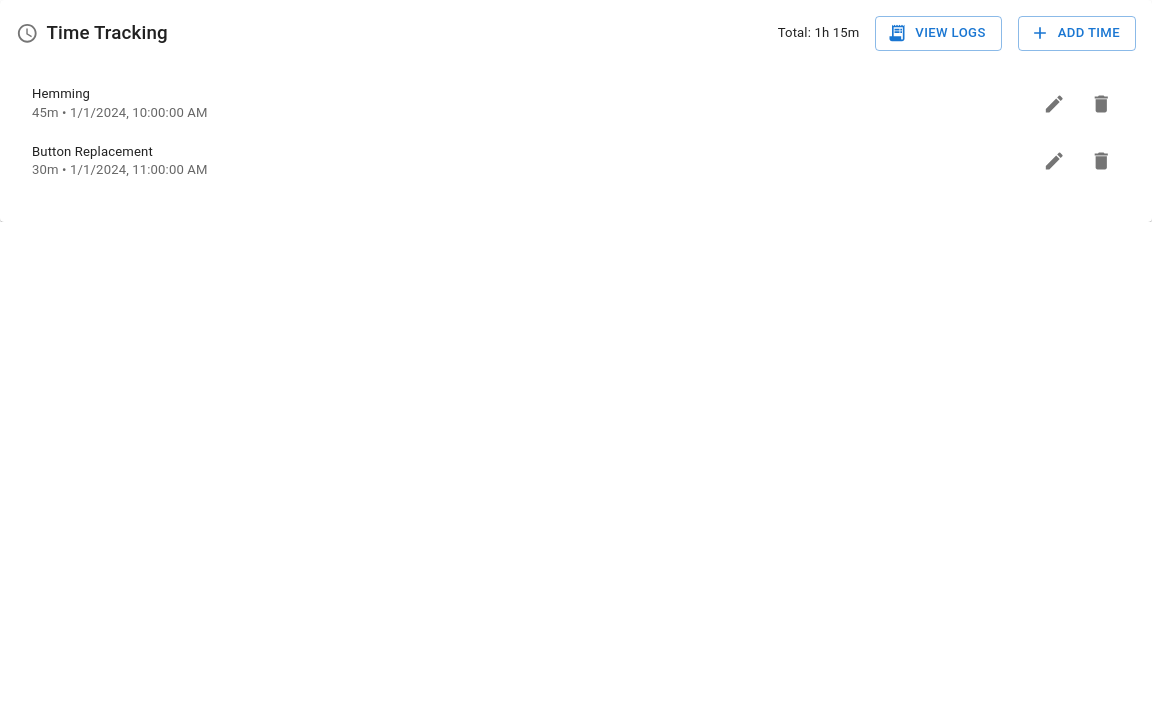
Test case: GarmentTimeTracker › Validation › should show time validation error when both hours and minutes are 0
The width and height of the screenshot is (1152, 720).
Expected: the heading "Time Tracking" is shown, [46, 18, 168, 48]
Click Add Time button
Click the button "Add Time": (1077, 34) [1018, 16, 1136, 51]
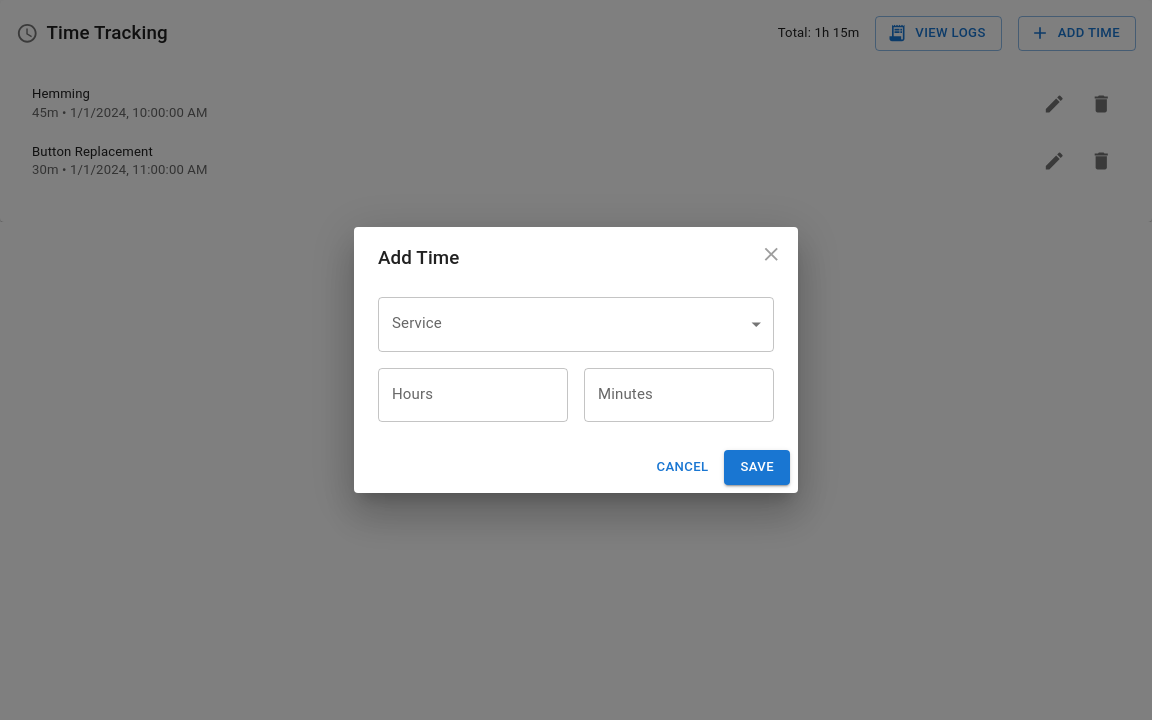
Select service and enter 0 for both fields
Select "Hemming" in the dropdown labelled "Service": (576, 324) [378, 297, 774, 352]
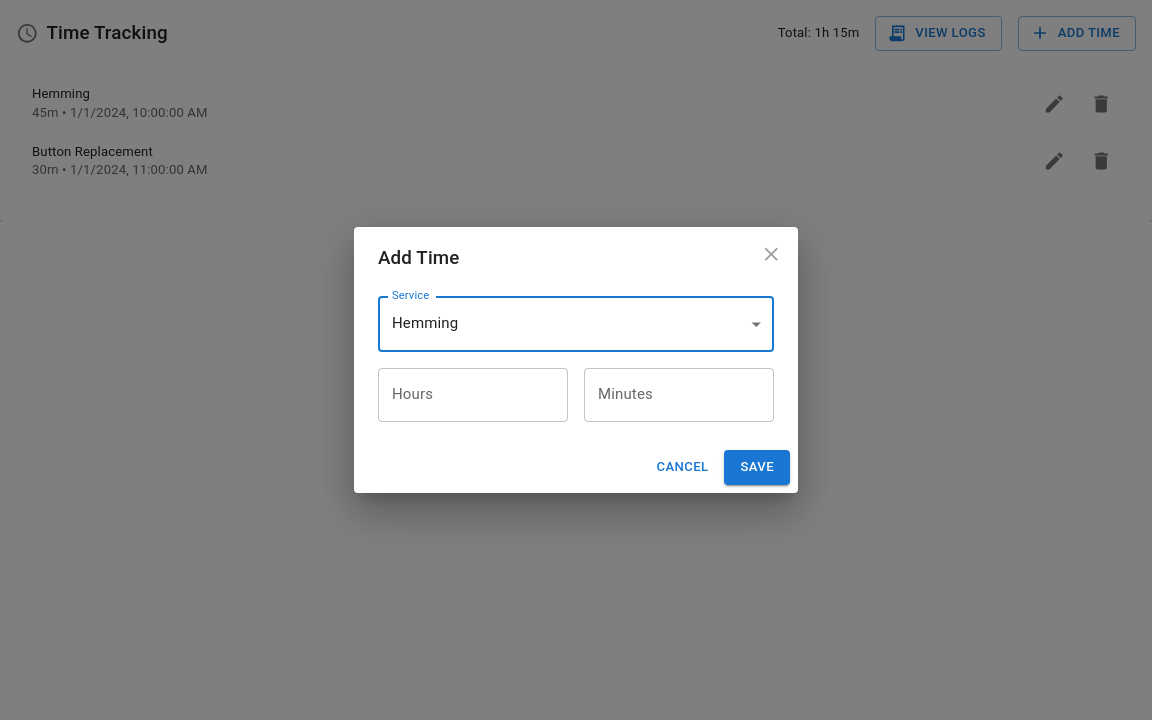
In the number field labelled "Hours": (473, 395) [378, 368, 568, 422], type "0"
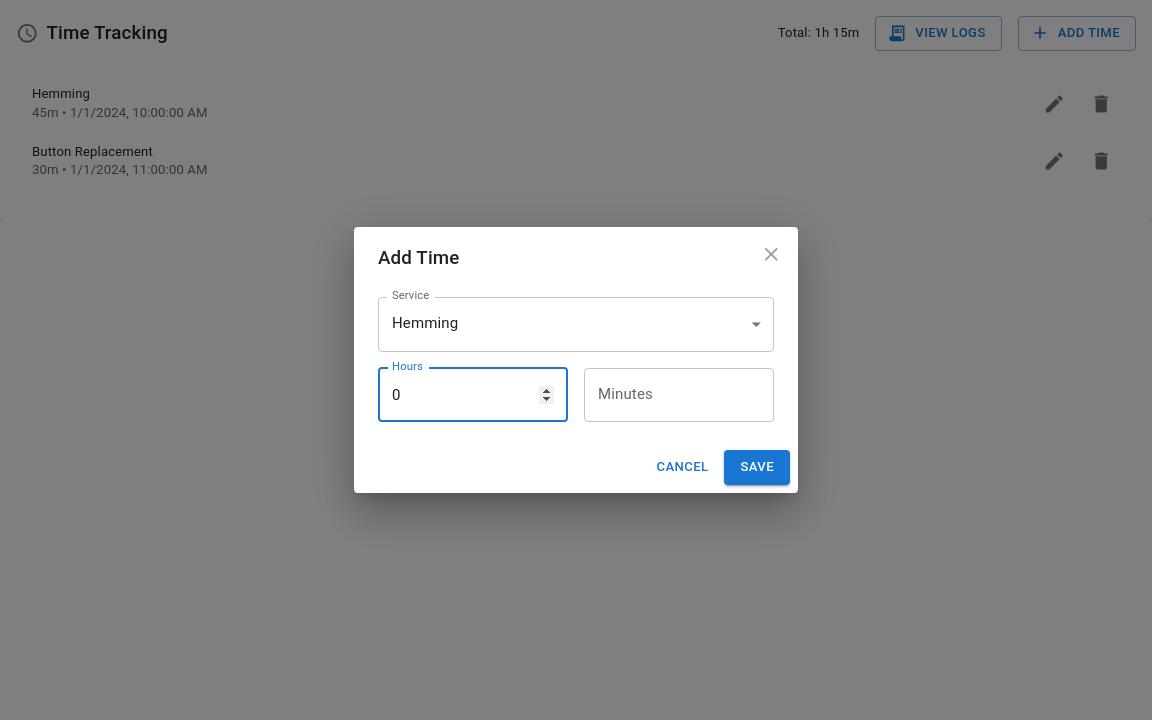
In the number field labelled "Minutes": (679, 395) [584, 368, 774, 422], type "0"
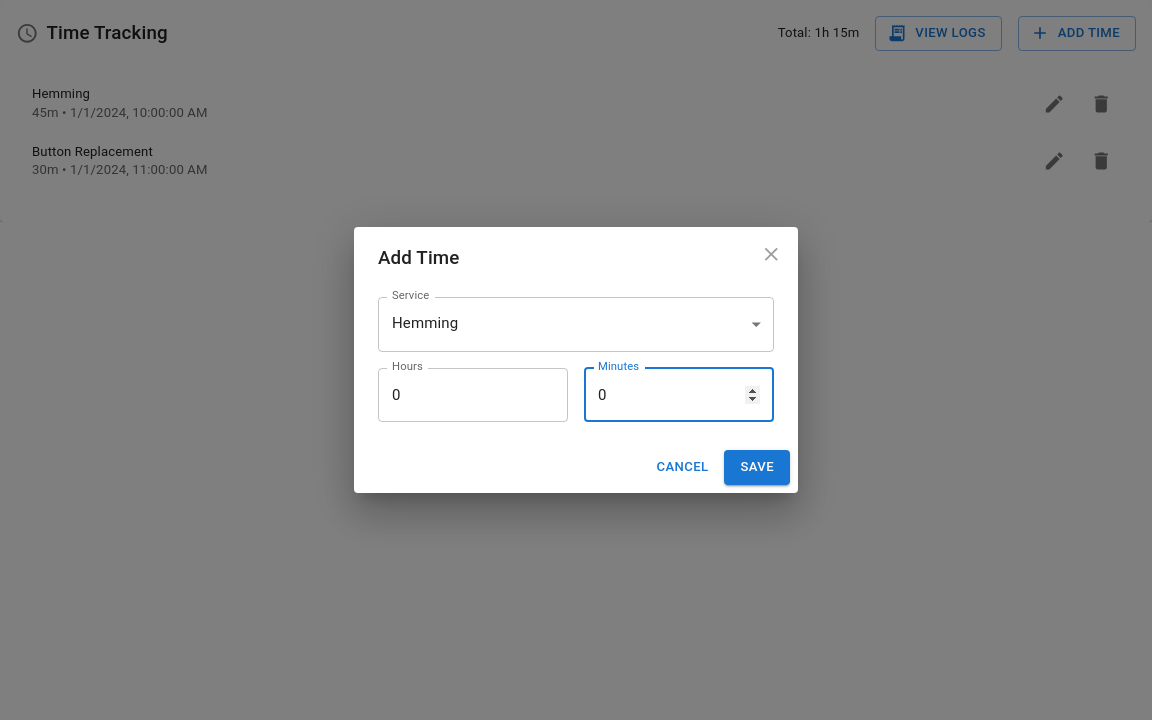
Try to save
Click the button "Save": (757, 468) [724, 450, 790, 485]
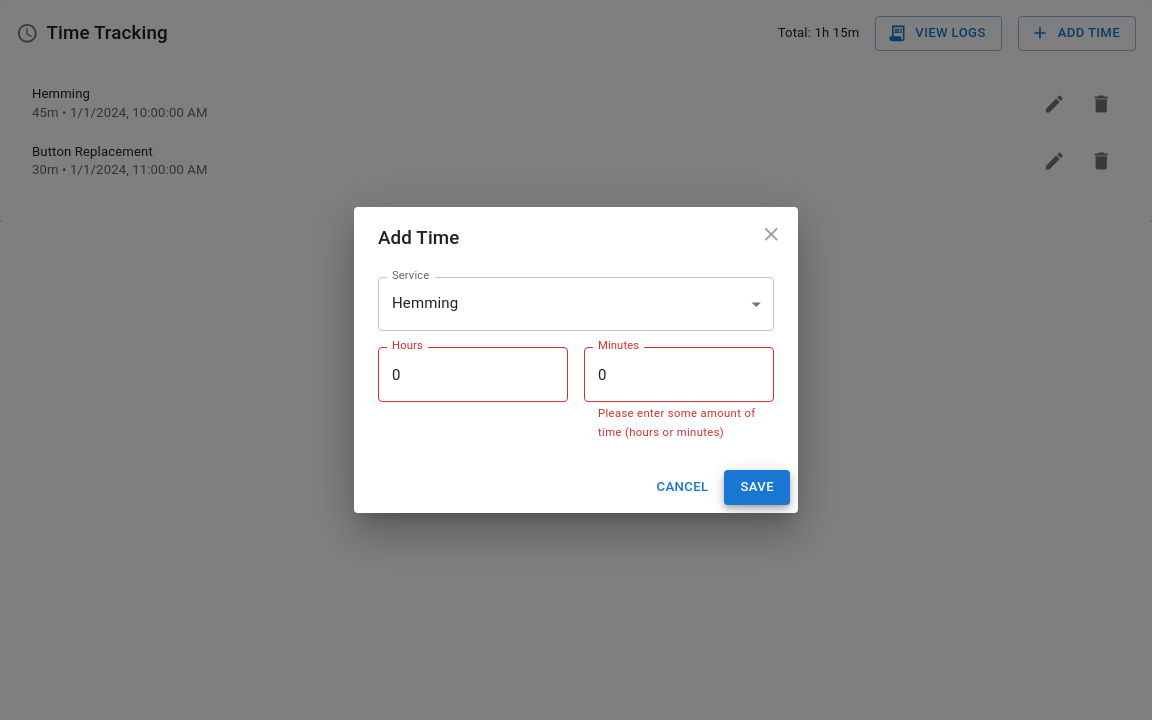
Expected: the text "Please enter some amount of time (hours or minutes)" is shown, [598, 405, 760, 442]
